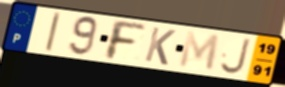9: (66, 15, 99, 58)
F: (104, 18, 147, 62)
I: (43, 11, 63, 54)
J: (219, 37, 253, 76)
K: (142, 25, 177, 67)
M: (177, 30, 222, 73)
